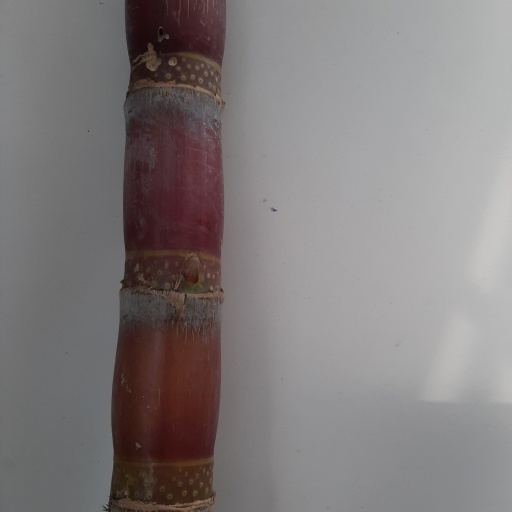Bud: (181, 251, 205, 286)
